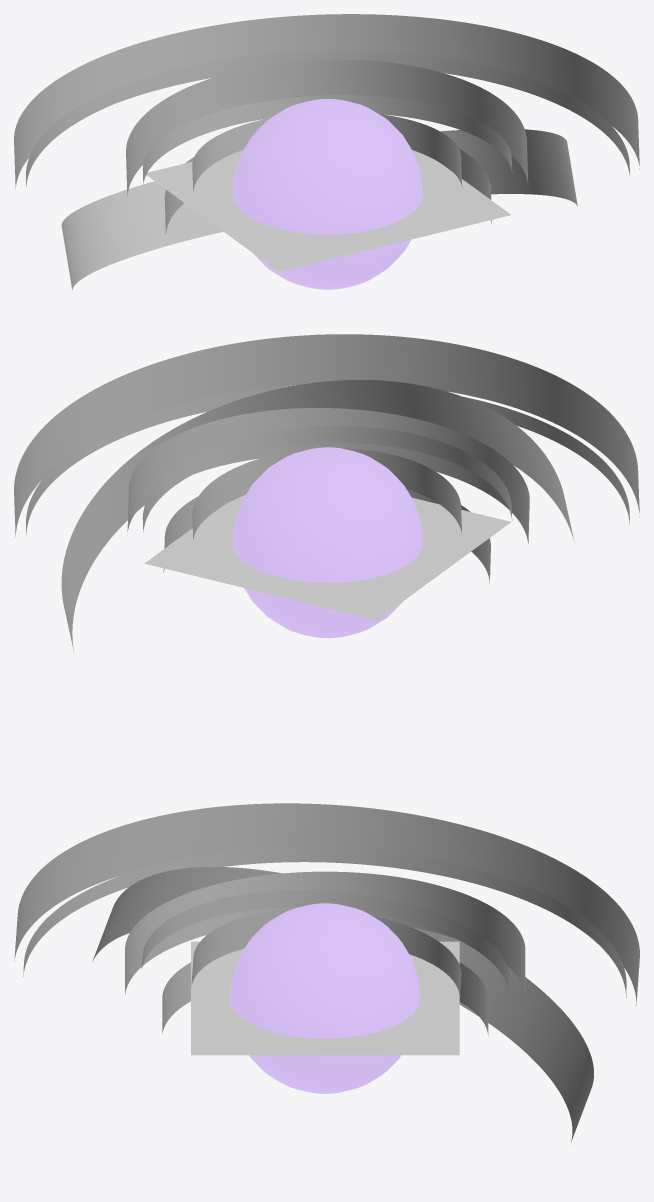
Rendered from orb2.glb.
The picture shows the model from 3 angles, top to bottom: view 1: azimuth 30°, elevation 25°; view 2: azimuth 150°, elevation 25°; view 3: azimuth 270°, elevation 25°; orthographic projection.
Parts seen in each view (by area): view 1: Circle.004, Sphere, Circle.002, Circle.003, Plane, Circle.005, Circle.006, Circle, Circle.001; view 2: Circle.004, Sphere, Circle.003, Plane, Circle.002, Circle.006, Circle.005, Circle, Circle.001; view 3: Circle.004, Sphere, Circle.003, Plane, Circle.002, Circle.005, Circle.006, Circle, Circle.001.
Boxes of the visible parts, <box> form: Circle.004: <box>14,14,639,189</box>; Sphere: <box>232,99,423,289</box>; Circle.002: <box>126,59,528,196</box>; Circle.003: <box>61,129,577,289</box>; Plane: <box>146,150,510,271</box>; Circle.005: <box>26,50,629,186</box>; Circle.006: <box>142,95,512,184</box>; Circle: <box>192,114,462,190</box>; Circle.001: <box>164,149,491,233</box>; Circle.004: <box>14,334,639,536</box>; Sphere: <box>232,447,423,638</box>; Circle.003: <box>61,380,574,651</box>; Plane: <box>144,495,510,620</box>; Circle.002: <box>127,408,529,543</box>; Circle.006: <box>142,426,512,532</box>; Circle.005: <box>26,385,629,534</box>; Circle: <box>192,448,462,539</box>; Circle.001: <box>163,489,490,583</box>; Circle.004: <box>14,803,639,1005</box>; Sphere: <box>230,903,420,1093</box>; Circle.003: <box>92,867,593,1142</box>; Plane: <box>191,941,459,1055</box>; Circle.002: <box>125,871,525,994</box>; Circle.005: <box>23,847,626,997</box>; Circle.006: <box>141,890,510,997</box>; Circle: <box>191,910,461,998</box>; Circle.001: <box>162,962,488,1035</box>.
Size of the model in its own units: 4.64 by 1.8 by 4.66.
